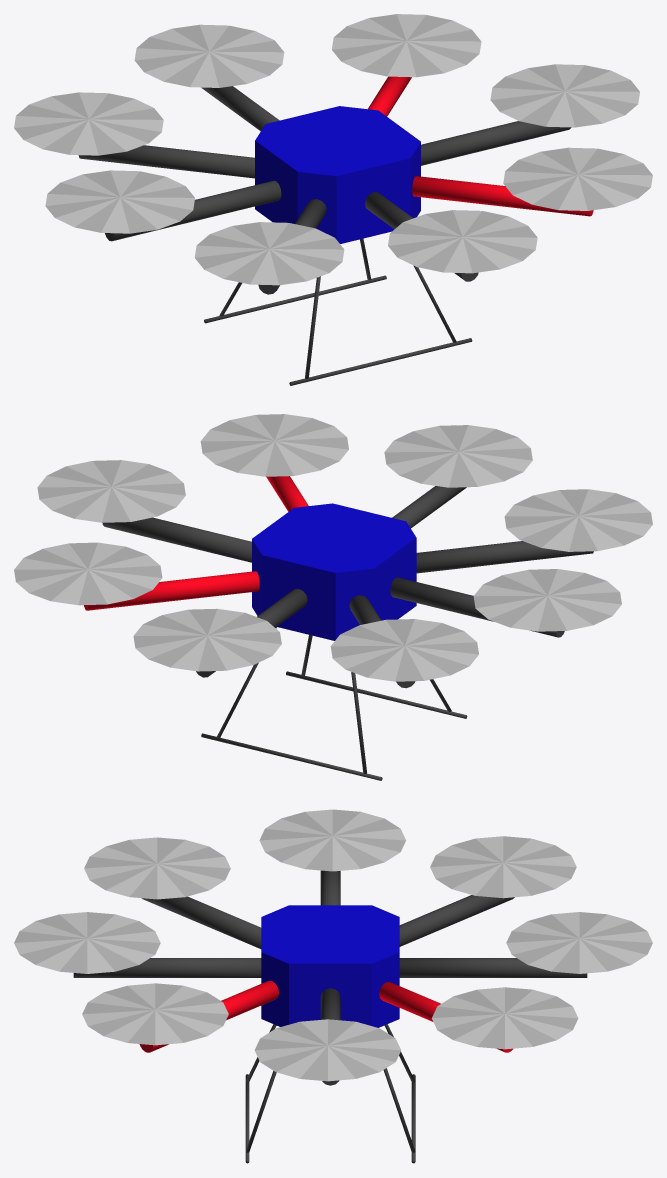
The model's file is octorotor_base.dae.
3 renders of one model, top to bottom at view 1: azimuth 30°, elevation 25°; view 2: azimuth 150°, elevation 25°; view 3: azimuth 270°, elevation 25°, orthographic. The views are drawn at different scales.
Visible parts, largest first — view 1: MainBody_002, MainBody_018, MainBody_015, MainBody_021, MainBody_011, MainBody_014, MainBody_008, MainBody_010, MainBody_019, MainBody_016, MainBody_003, MainBody_020 (+7 smaller); view 2: MainBody_002, MainBody_019, MainBody_010, MainBody_014, MainBody_018, MainBody_008, MainBody_011, MainBody_015, MainBody_021, MainBody_017, MainBody_003, MainBody_022 (+7 smaller); view 3: MainBody_002, MainBody_008, MainBody_019, MainBody_021, MainBody_010, MainBody_011, MainBody_014, MainBody_018, MainBody_015, MainBody_013, MainBody_009, MainBody_017 (+5 smaller).
Boxes of the visible parts, left/top/right/bottom form: MainBody_002: left=255, top=106, right=420, bottom=243; MainBody_018: left=194, top=222, right=344, bottom=285; MainBody_015: left=14, top=92, right=163, bottom=155; MainBody_021: left=331, top=14, right=481, bottom=77; MainBody_011: left=45, top=170, right=194, bottom=233; MainBody_014: left=134, top=24, right=284, bottom=87; MainBody_008: left=490, top=64, right=639, bottom=127; MainBody_010: left=388, top=210, right=537, bottom=273; MainBody_019: left=503, top=147, right=652, bottom=210; MainBody_016: left=78, top=145, right=254, bottom=178; MainBody_003: left=421, top=121, right=571, bottom=165; MainBody_020: left=412, top=176, right=593, bottom=216; MainBody_002: left=252, top=503, right=416, bottom=640; MainBody_019: left=200, top=414, right=348, bottom=476; MainBody_010: left=384, top=425, right=532, bottom=487; MainBody_014: left=133, top=608, right=281, bottom=671; MainBody_018: left=504, top=489, right=652, bottom=551; MainBody_008: left=37, top=460, right=185, bottom=522; MainBody_011: left=473, top=569, right=621, bottom=631; MainBody_015: left=330, top=619, right=478, bottom=681; MainBody_021: left=14, top=542, right=162, bottom=605; MainBody_017: left=416, top=541, right=593, bottom=573; MainBody_003: left=102, top=517, right=251, bottom=562; MainBody_022: left=84, top=571, right=259, bottom=610; MainBody_002: left=261, top=905, right=399, bottom=1027; MainBody_008: left=254, top=1019, right=401, bottom=1081; MainBody_019: left=82, top=983, right=228, bottom=1045; MainBody_021: left=431, top=987, right=578, bottom=1049; MainBody_010: left=14, top=912, right=160, bottom=973; MainBody_011: left=259, top=809, right=405, bottom=871; MainBody_014: left=506, top=912, right=652, bottom=973; MainBody_018: left=84, top=837, right=230, bottom=899; MainBody_015: left=430, top=836, right=576, bottom=898; MainBody_013: left=399, top=958, right=587, bottom=977; MainBody_009: left=73, top=958, right=261, bottom=977; MainBody_017: left=141, top=896, right=261, bottom=948.
Size of the model in its own units: 0.6971 by 0.6924 by 0.2225.
